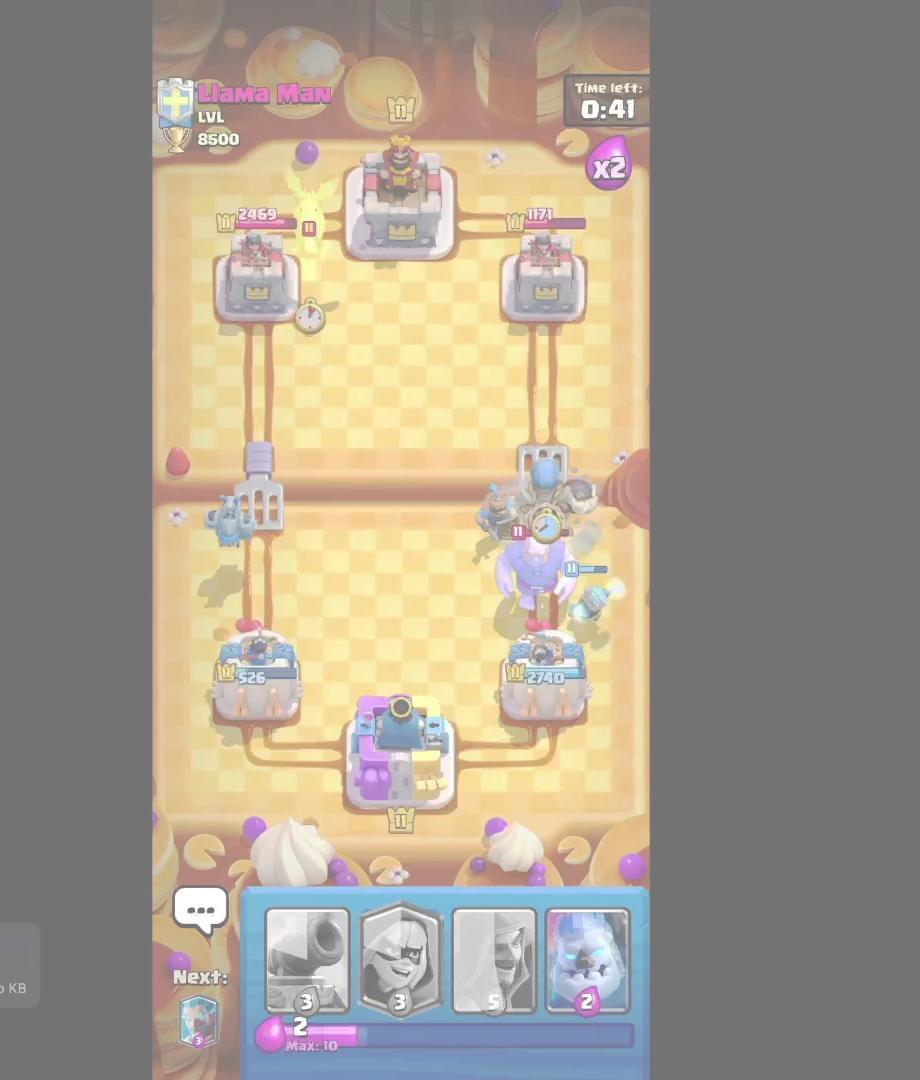Baby Dragon: (281, 168, 342, 260)
